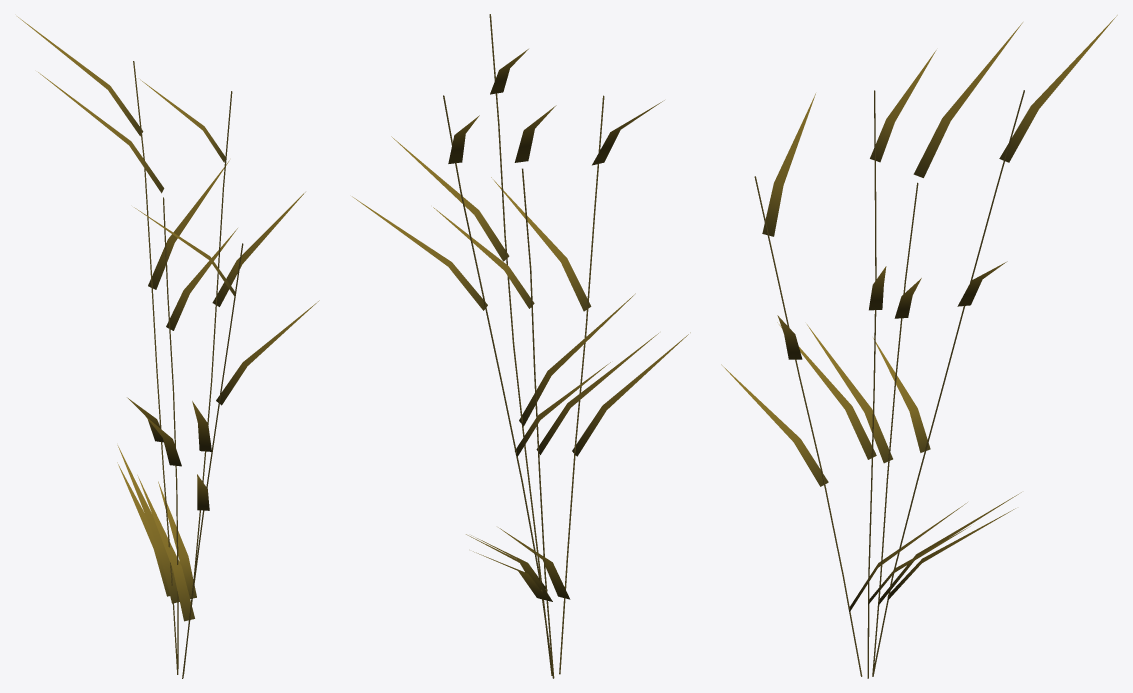
File: kelp-giant-a.lod2.glb
The picture shows the model from 3 angles, left to right: view 1: azimuth 30°, elevation 25°; view 2: azimuth 150°, elevation 25°; view 3: azimuth 270°, elevation 25°; orthographic projection. The views are drawn at different scales.
Parts seen in each view (by area): view 1: kelp-giant-a.lod2; view 2: kelp-giant-a.lod2; view 3: kelp-giant-a.lod2.
Boxes of the visible parts, bbox=[...] form: kelp-giant-a.lod2: bbox=[17, 16, 319, 678]; kelp-giant-a.lod2: bbox=[352, 14, 690, 678]; kelp-giant-a.lod2: bbox=[721, 15, 1117, 678].
Size of the model in its own units: 2.29 by 6.13 by 3.47.
